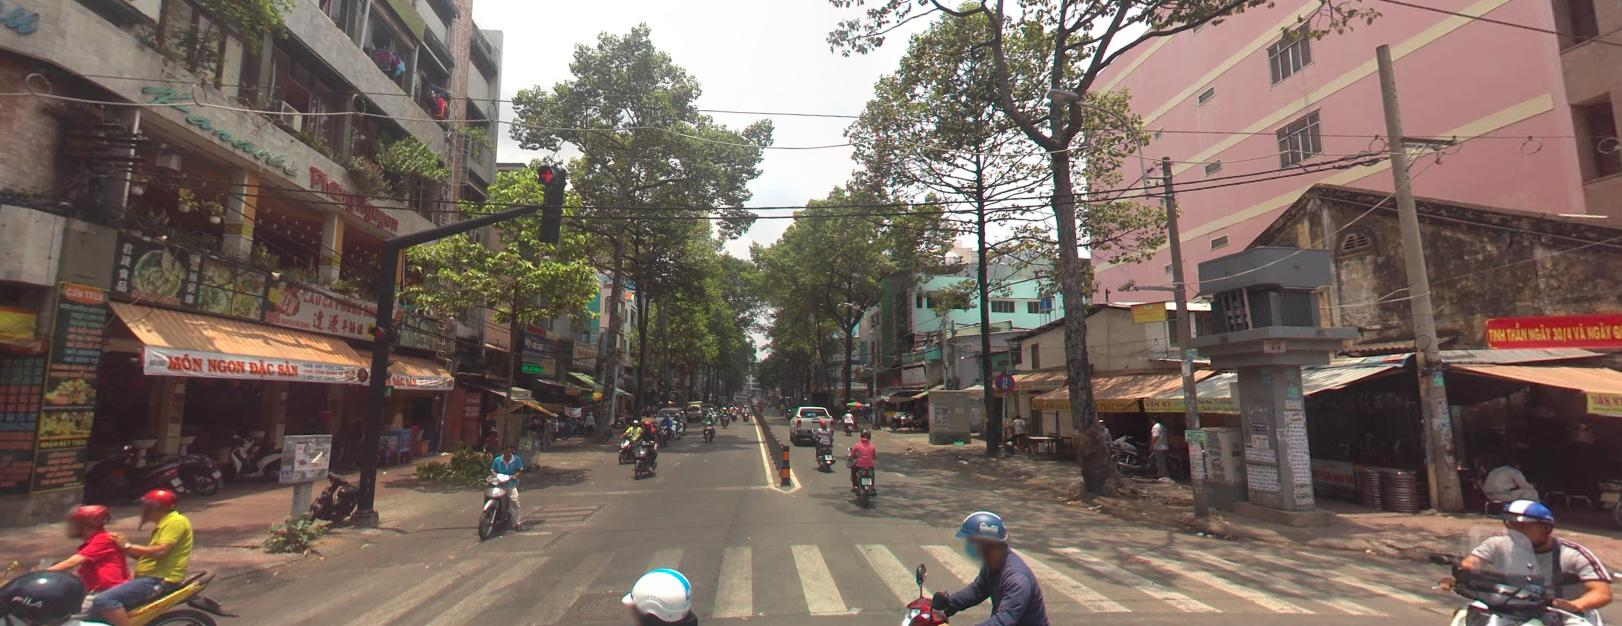Cam dung va do: (995, 371, 1015, 390)
